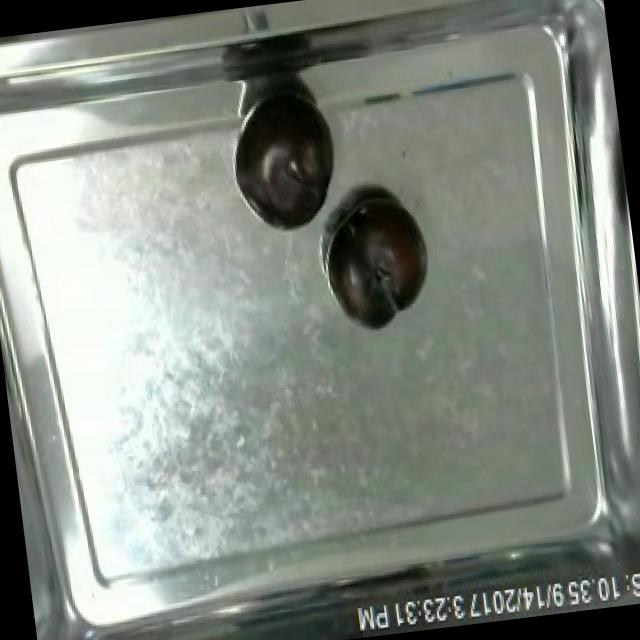Fruit: (322, 193, 438, 338), (228, 90, 342, 236)
